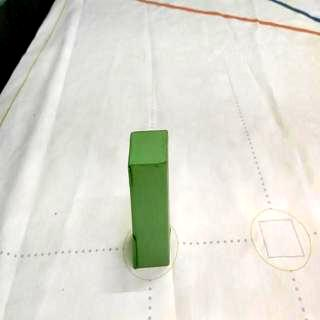greenbox: (128, 128, 172, 268)
